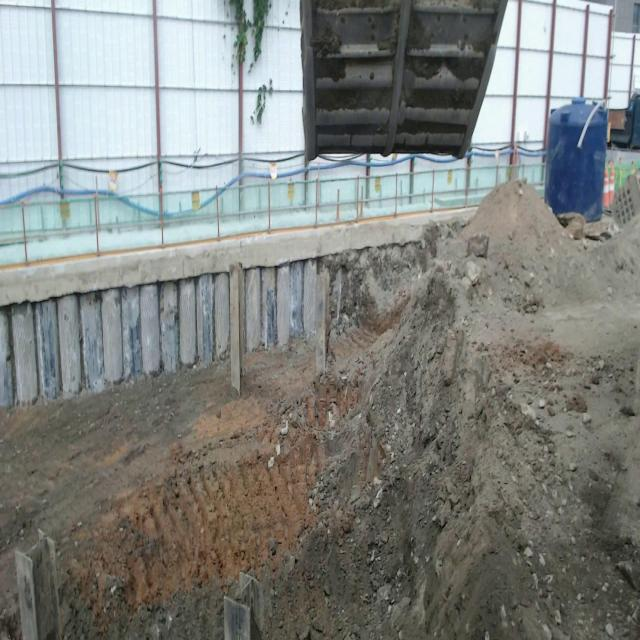white-sand: (0, 183, 640, 639)
